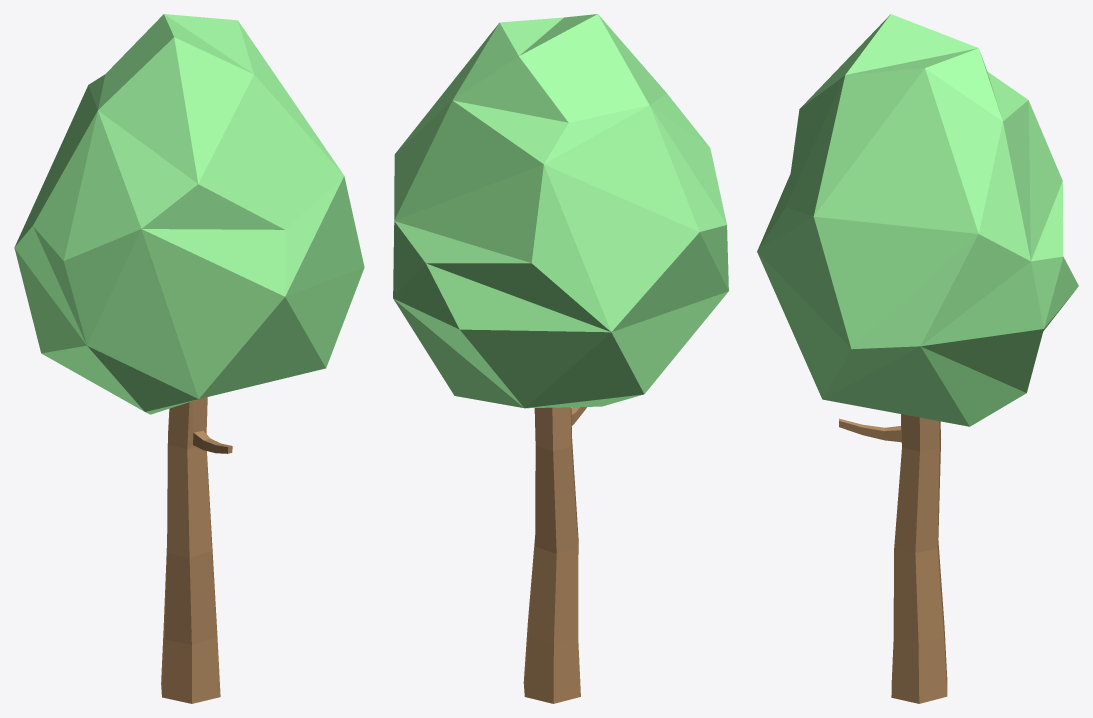
Rendered from tree.fbx.
The picture shows the model from 3 angles, left to right: view 1: azimuth 30°, elevation 25°; view 2: azimuth 150°, elevation 25°; view 3: azimuth 270°, elevation 25°; orthographic projection.
Parts seen in each view (by area): view 1: treeFoliage, treeTrunk; view 2: treeFoliage, treeTrunk; view 3: treeFoliage, treeTrunk.
Boxes of the visible parts, x1,y1,x2,y2 form: treeFoliage: (14, 14, 364, 414); treeTrunk: (161, 397, 232, 703); treeFoliage: (393, 14, 728, 408); treeTrunk: (523, 407, 586, 703); treeFoliage: (757, 14, 1078, 426); treeTrunk: (839, 414, 947, 703).
Size of the model in its own units: 6.92 by 14.83 by 6.54.
